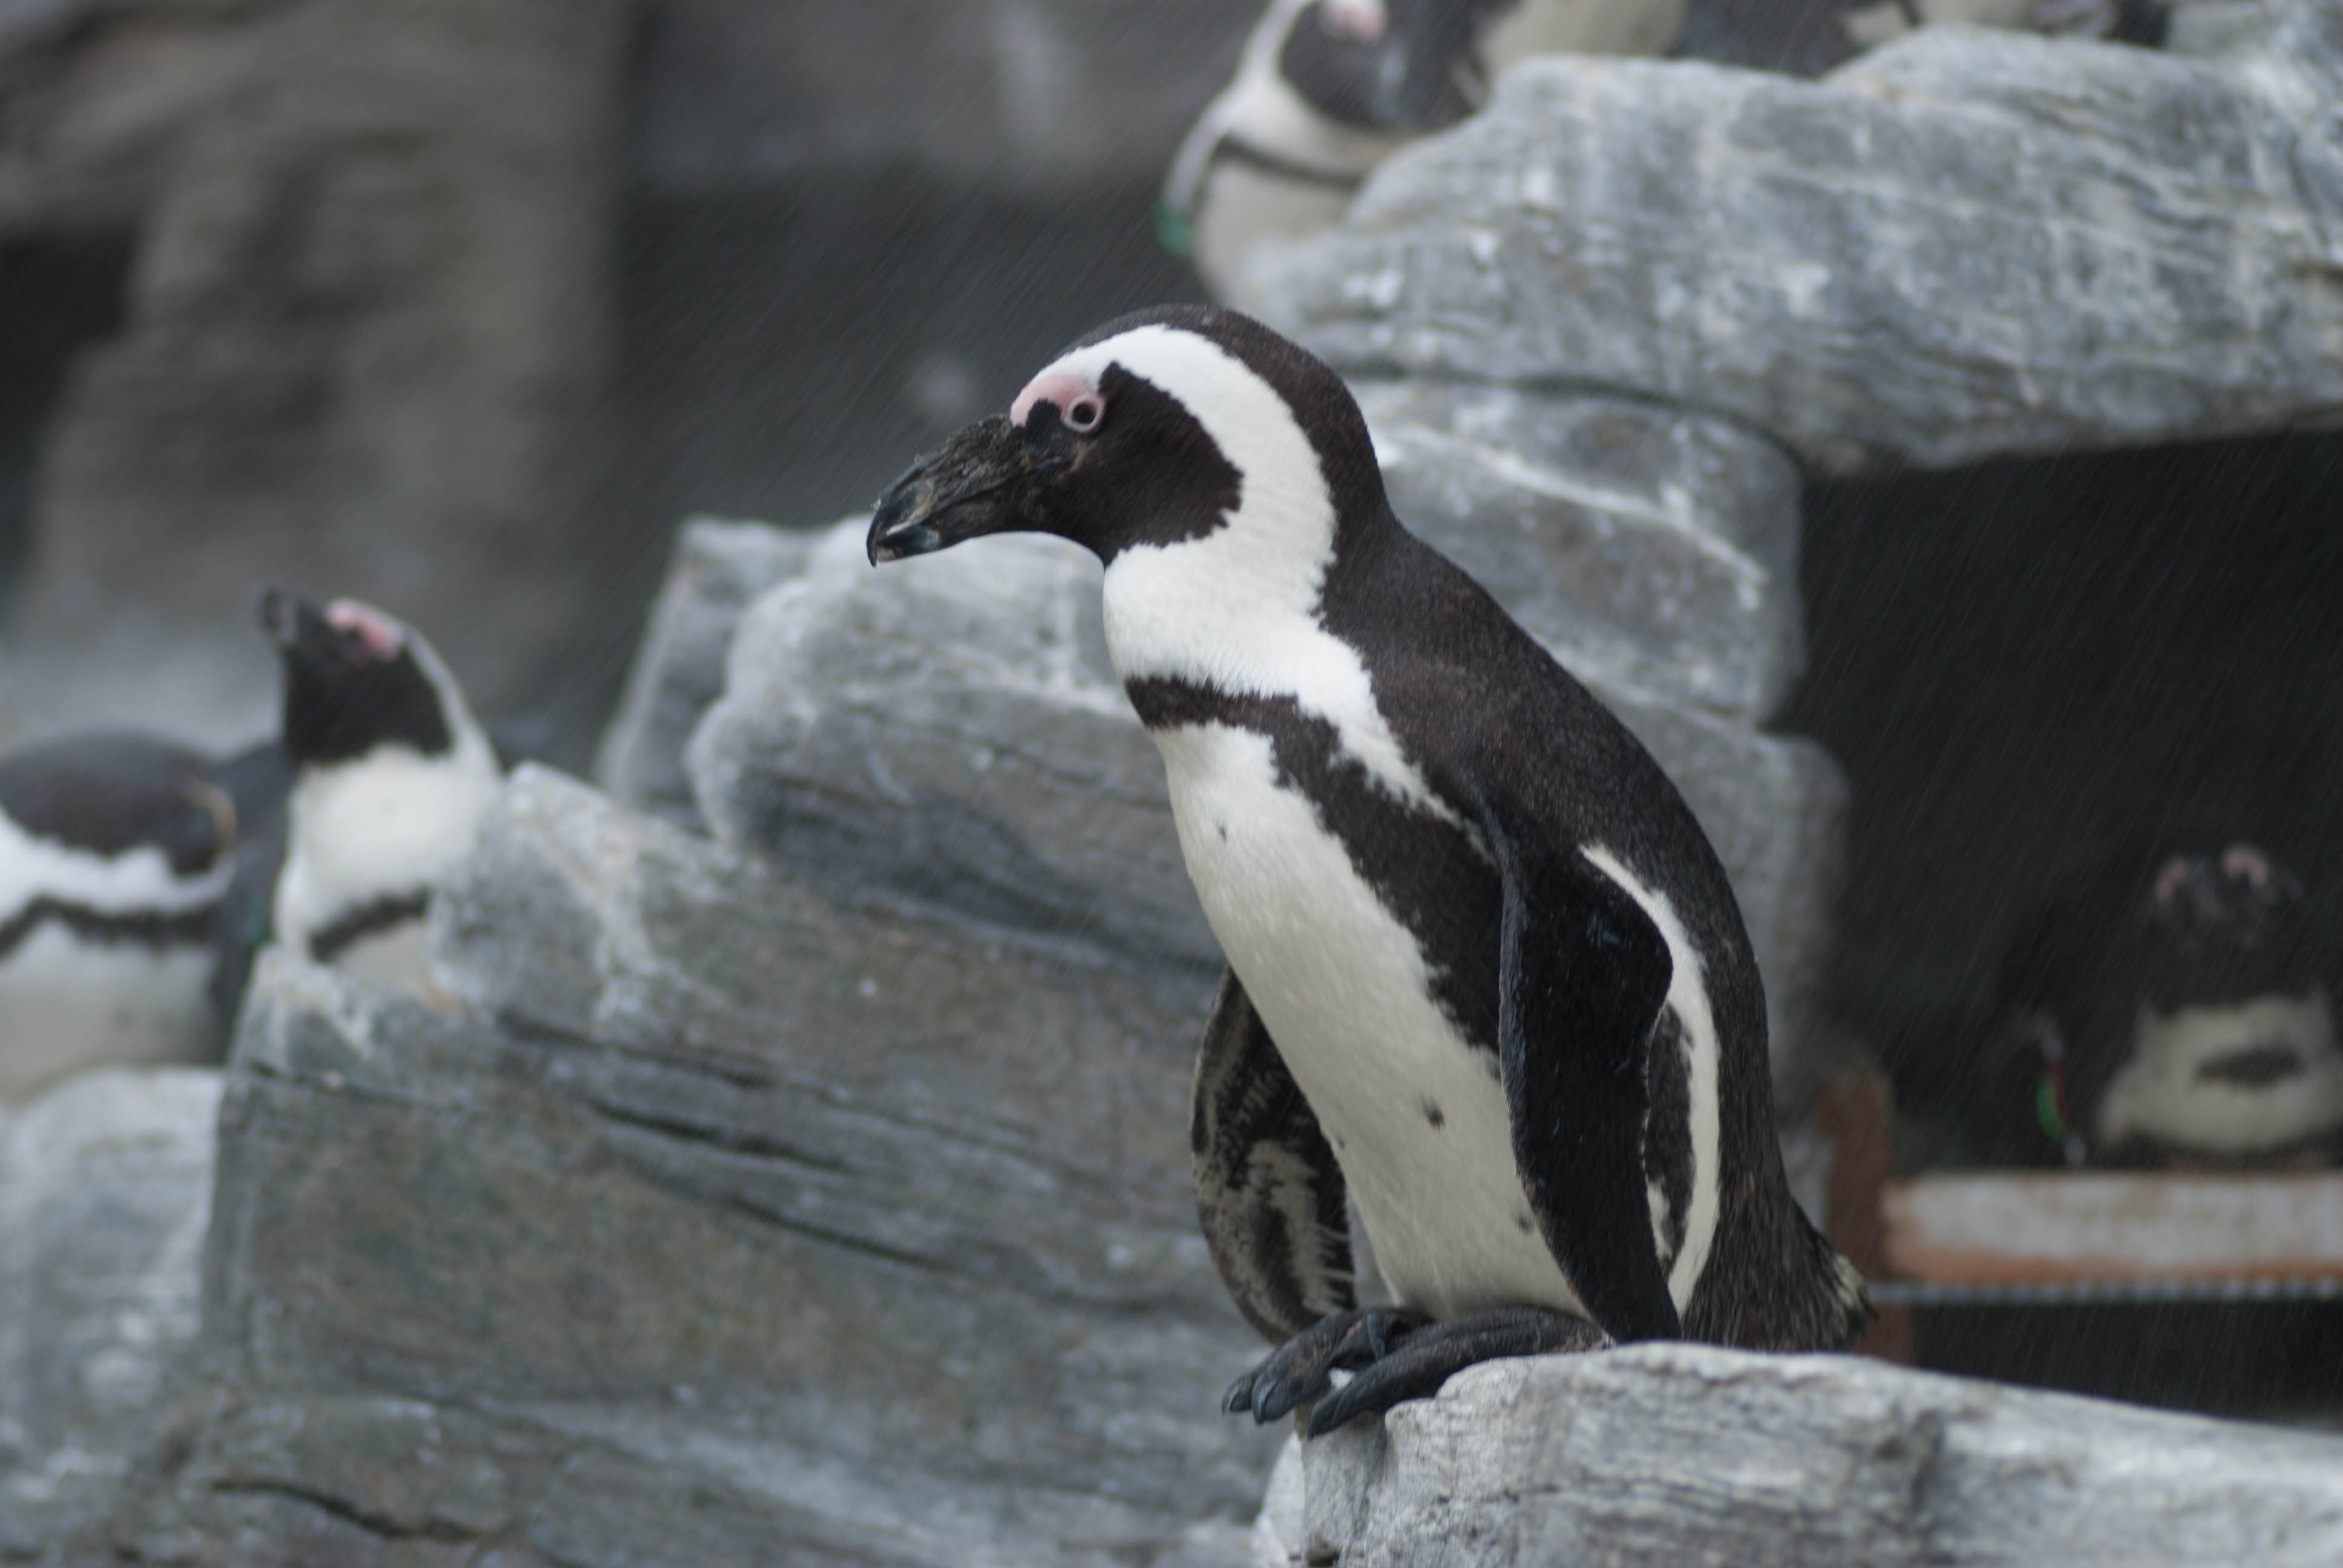penguin: (870, 292, 1867, 1407)
